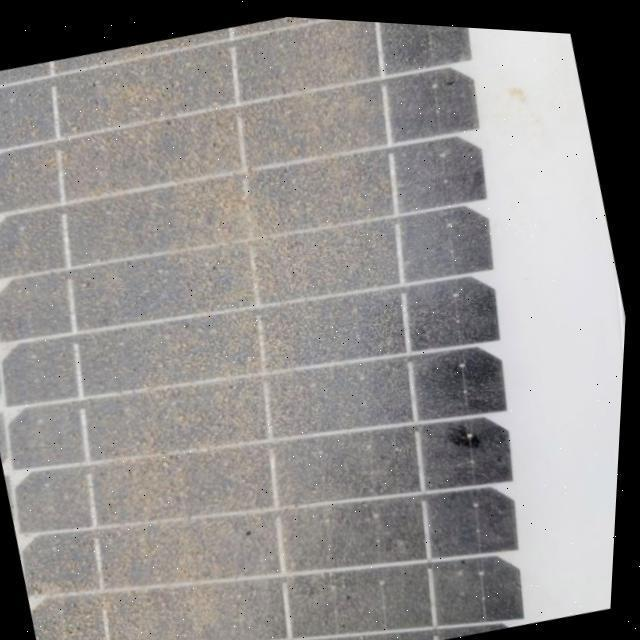Surface Contaminant: (142, 60, 537, 640)
